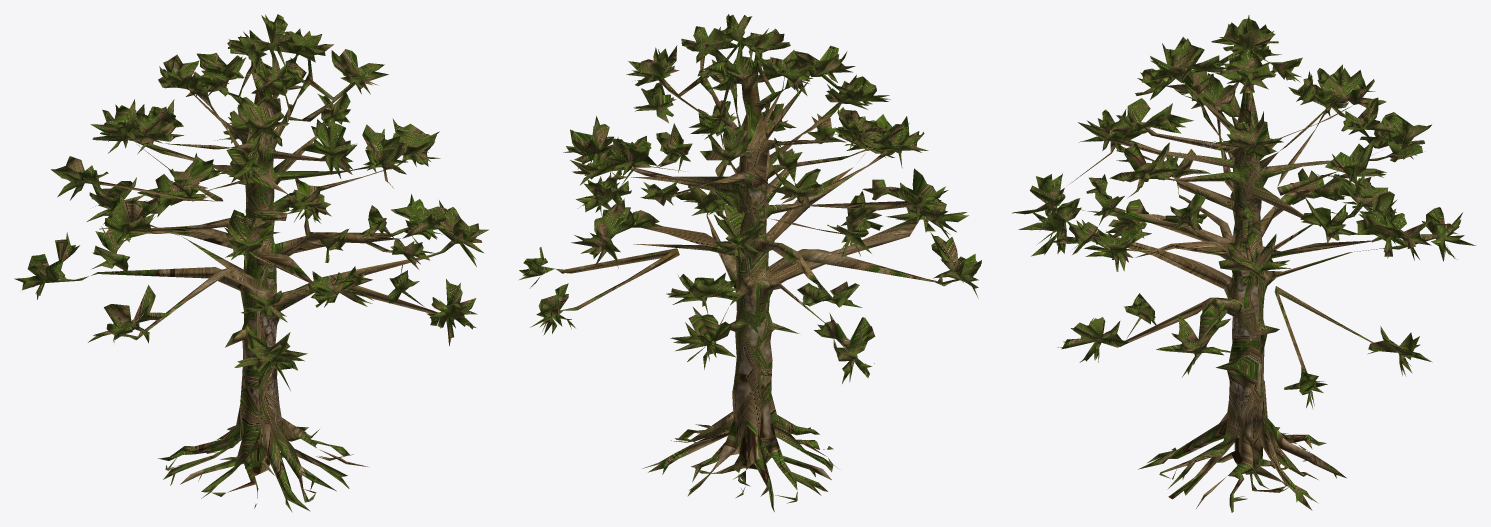
File: araucaria_joven.glb
3 views of the same model, side by side, from view 1: azimuth 30°, elevation 25°; view 2: azimuth 150°, elevation 25°; view 3: azimuth 270°, elevation 25° (orthographic).
Parts seen in each view (by area): view 1: tripo_node_1abbcd20-63e0-49a7-9ac4-190d511acc07; view 2: tripo_node_1abbcd20-63e0-49a7-9ac4-190d511acc07; view 3: tripo_node_1abbcd20-63e0-49a7-9ac4-190d511acc07.
Boxes of the visible parts, box(x1,y1,x2,y2) form: tripo_node_1abbcd20-63e0-49a7-9ac4-190d511acc07: box(14, 14, 488, 512); tripo_node_1abbcd20-63e0-49a7-9ac4-190d511acc07: box(518, 14, 981, 511); tripo_node_1abbcd20-63e0-49a7-9ac4-190d511acc07: box(1012, 15, 1475, 512).
Size of the model in its own units: 0.9092 by 0.9734 by 0.9017.
1 material, 1 textured.
